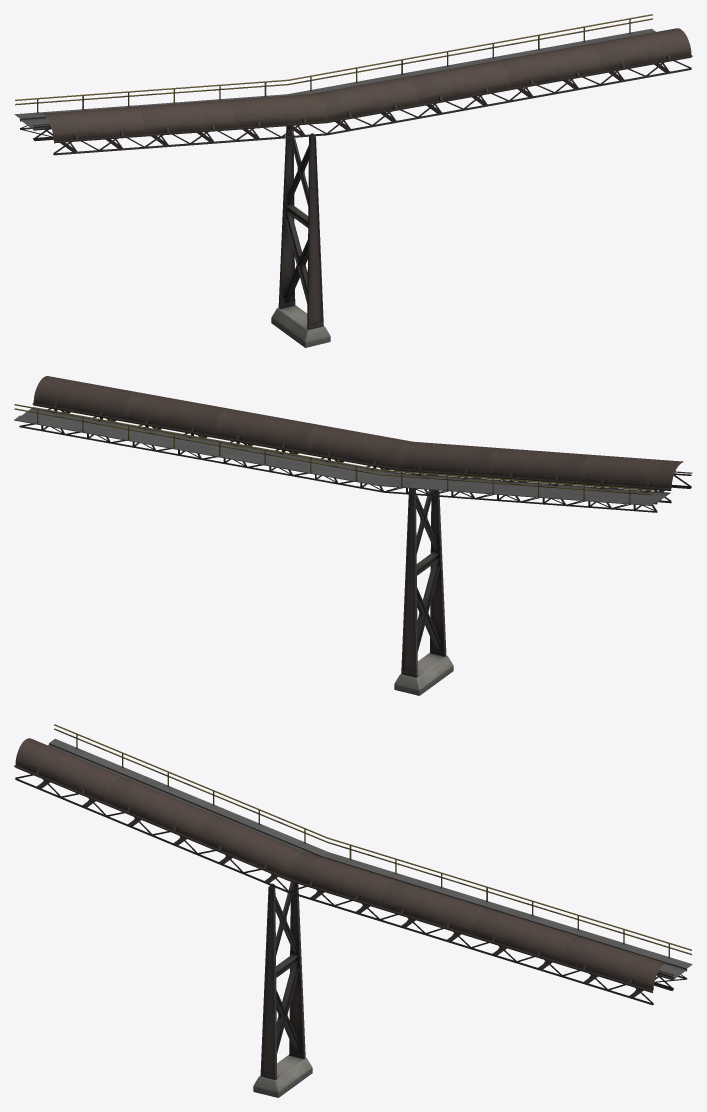
3 views of the same model, one above another, from view 1: azimuth 30°, elevation 25°; view 2: azimuth 150°, elevation 25°; view 3: azimuth 330°, elevation 25° (orthographic).
Visible parts, largest first — view 1: body0_model0_lod0_mesh0, body0_model0_lod0_mesh1; view 2: body0_model0_lod0_mesh0, body0_model0_lod0_mesh1; view 3: body0_model0_lod0_mesh0, body0_model0_lod0_mesh1.
Boxes of the visible parts, left/top/right/bottom form: body0_model0_lod0_mesh0: left=14, top=14, right=692, bottom=155; body0_model0_lod0_mesh1: left=271, top=126, right=330, bottom=347; body0_model0_lod0_mesh0: left=14, top=376, right=692, bottom=512; body0_model0_lod0_mesh1: left=394, top=475, right=453, bottom=695; body0_model0_lod0_mesh0: left=14, top=724, right=692, bottom=1005; body0_model0_lod0_mesh1: left=253, top=882, right=312, bottom=1097.
Bounding box in the file's own units: 1792 × 752 × 227.
2 materials, 2 textured.
